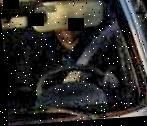seatbelt: (67, 24, 116, 76)
